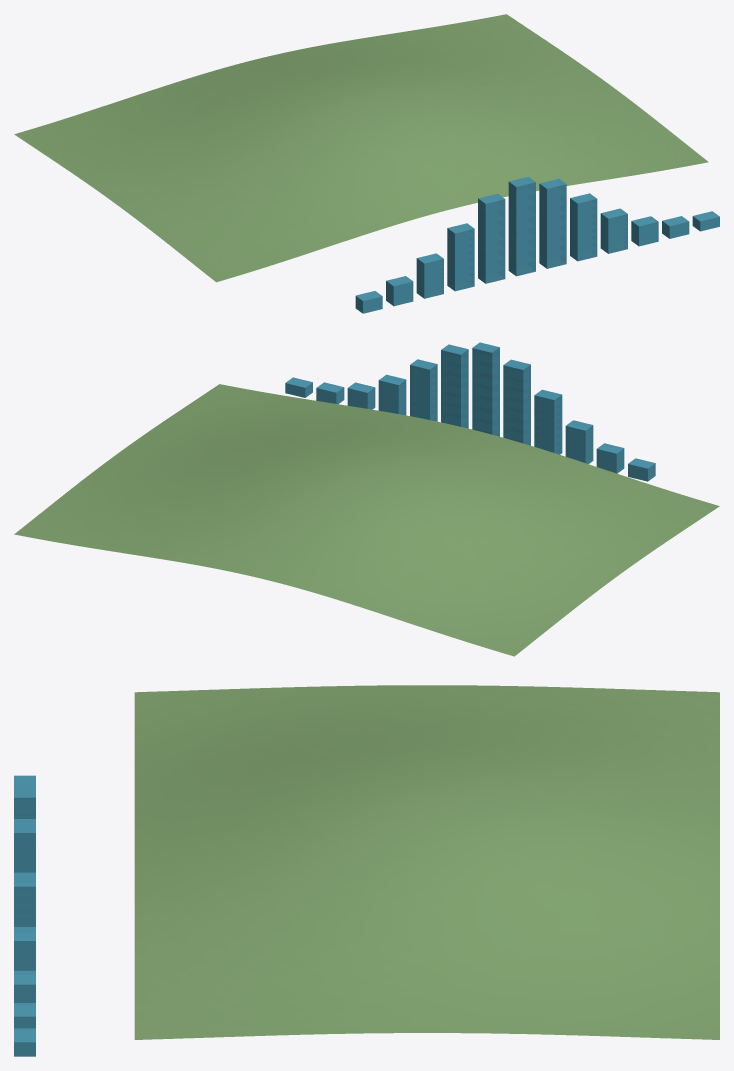
Rendered from hydrograph.glb.
3 renders of one model, top to bottom at view 1: azimuth 30°, elevation 25°; view 2: azimuth 150°, elevation 25°; view 3: azimuth 270°, elevation 25°, orthographic. The views are drawn at different scales.
Visible parts, largest first — view 1: Hydro_Catchment, Hydro_Bar_5, Hydro_Bar_6, Hydro_Bar_4, Hydro_Bar_7, Hydro_Bar_3, Hydro_Bar_2, Hydro_Bar_8, Hydro_Bar_1, Hydro_Bar_9, Hydro_Bar_10, Hydro_Bar_0; view 2: Hydro_Catchment, Hydro_Bar_5, Hydro_Bar_4, Hydro_Bar_6, Hydro_Bar_3, Hydro_Bar_7, Hydro_Bar_2, Hydro_Bar_8, Hydro_Bar_1, Hydro_Bar_9, Hydro_Bar_0, Hydro_Bar_10; view 3: Hydro_Catchment, Hydro_Bar_7, Hydro_Bar_6, Hydro_Bar_8, Hydro_Bar_5, Hydro_Bar_9, Hydro_Bar_11.
Boxes of the visible parts, x1,y1,x2,y2 form: Hydro_Catchment: [14, 14, 708, 282]; Hydro_Bar_5: [508, 176, 535, 276]; Hydro_Bar_6: [539, 178, 566, 268]; Hydro_Bar_4: [478, 193, 505, 283]; Hydro_Bar_7: [570, 193, 597, 261]; Hydro_Bar_3: [447, 223, 474, 291]; Hydro_Bar_2: [416, 253, 443, 298]; Hydro_Bar_8: [600, 208, 627, 253]; Hydro_Bar_1: [386, 276, 413, 306]; Hydro_Bar_9: [631, 216, 658, 246]; Hydro_Bar_10: [662, 216, 689, 238]; Hydro_Bar_0: [355, 291, 382, 313]; Hydro_Catchment: [14, 384, 719, 656]; Hydro_Bar_5: [472, 342, 499, 436]; Hydro_Bar_4: [503, 359, 530, 445]; Hydro_Bar_6: [441, 344, 468, 428]; Hydro_Bar_3: [534, 389, 562, 454]; Hydro_Bar_7: [410, 359, 437, 421]; Hydro_Bar_2: [565, 420, 593, 463]; Hydro_Bar_8: [378, 374, 406, 415]; Hydro_Bar_1: [596, 443, 624, 473]; Hydro_Bar_9: [347, 382, 375, 409]; Hydro_Bar_0: [628, 458, 655, 481]; Hydro_Bar_10: [316, 382, 344, 404]; Hydro_Catchment: [134, 685, 719, 1039]; Hydro_Bar_7: [14, 872, 35, 926]; Hydro_Bar_6: [14, 819, 35, 872]; Hydro_Bar_8: [14, 927, 35, 970]; Hydro_Bar_5: [14, 783, 35, 818]; Hydro_Bar_9: [14, 970, 35, 1002]; Hydro_Bar_11: [14, 1028, 35, 1056].
Bounding box in the file's own units: 4.5 × 0.78 × 3.86.
